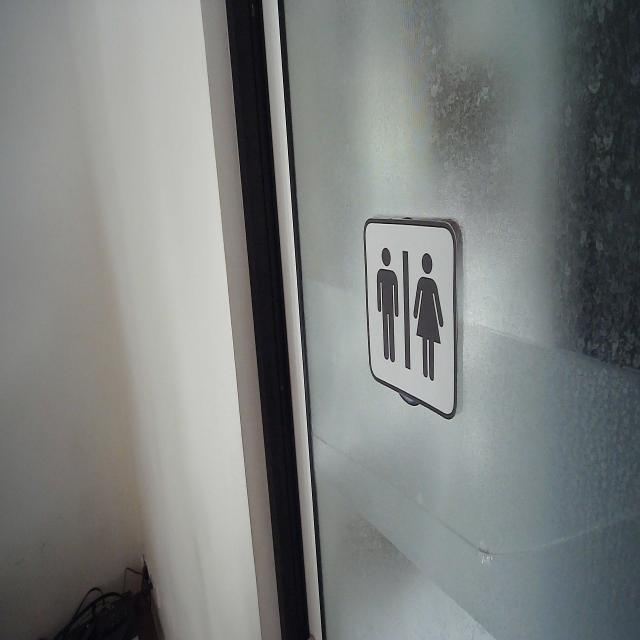restroom: (360, 214, 460, 422)
